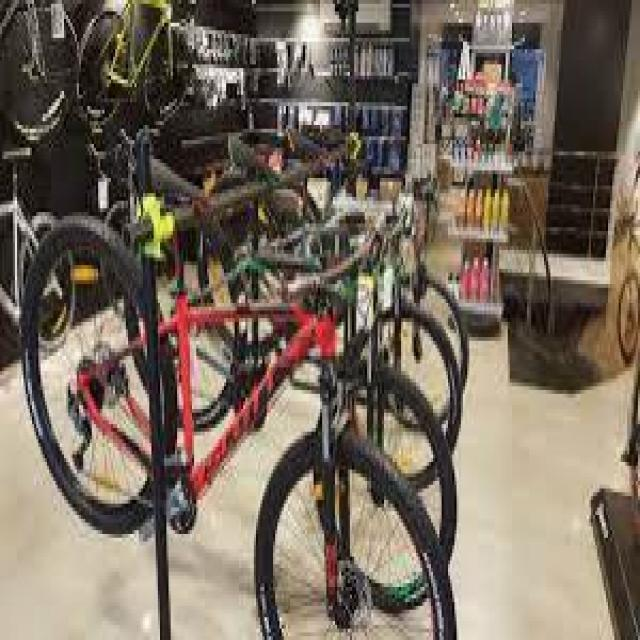bicycle: (18, 224, 458, 640)
